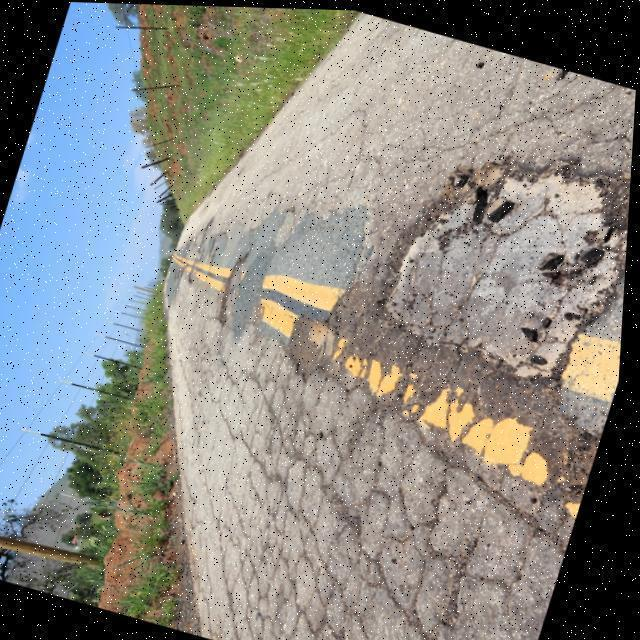Pothole: (372, 154, 633, 384)
